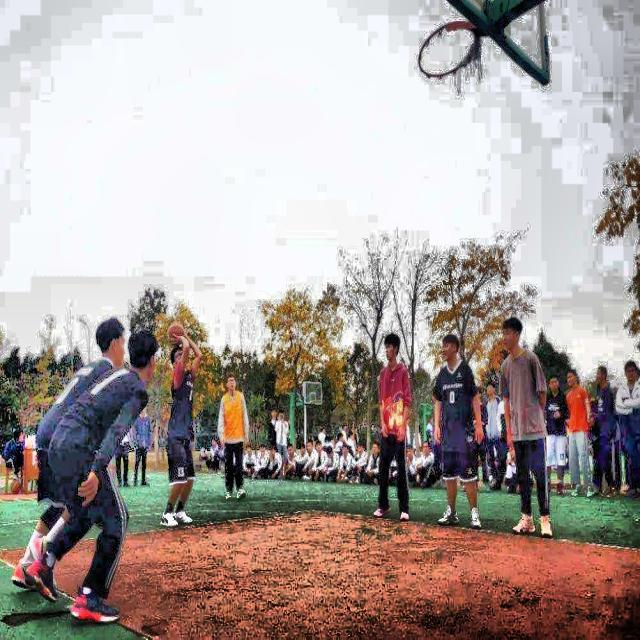board: (167, 322, 184, 343)
